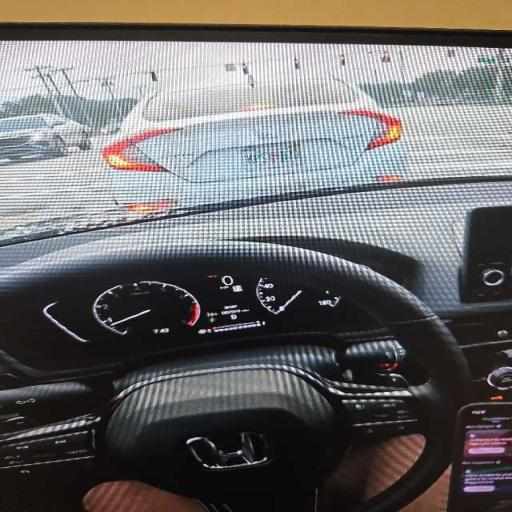car: (0, 26, 511, 511), (103, 73, 405, 211), (0, 114, 91, 160), (98, 124, 119, 135)
lane: (0, 138, 116, 231)
person: (323, 435, 423, 510)
